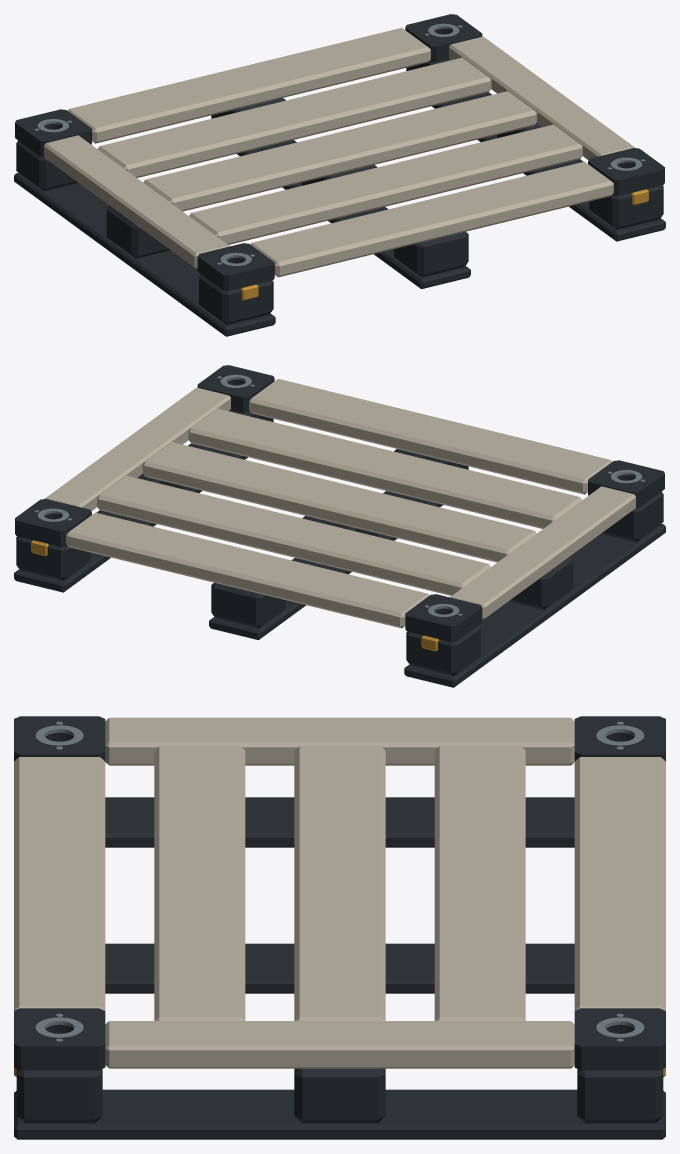
The model's file is pallet_d0_lod0.glb.
The picture shows the model from 3 angles, top to bottom: view 1: azimuth 30°, elevation 25°; view 2: azimuth 150°, elevation 25°; view 3: azimuth 270°, elevation 25°; orthographic projection. The views are drawn at different scales.
Visible parts, largest first — view 1: PALLET_SURFACE; view 2: PALLET_SURFACE; view 3: PALLET_SURFACE.
Part boxes in pixels (bbox=[...]): PALLET_SURFACE: bbox=[14, 14, 665, 336]; PALLET_SURFACE: bbox=[14, 365, 665, 687]; PALLET_SURFACE: bbox=[14, 716, 665, 1139].
Bounding box in the file's own units: 1.2 × 0.16 × 1.
